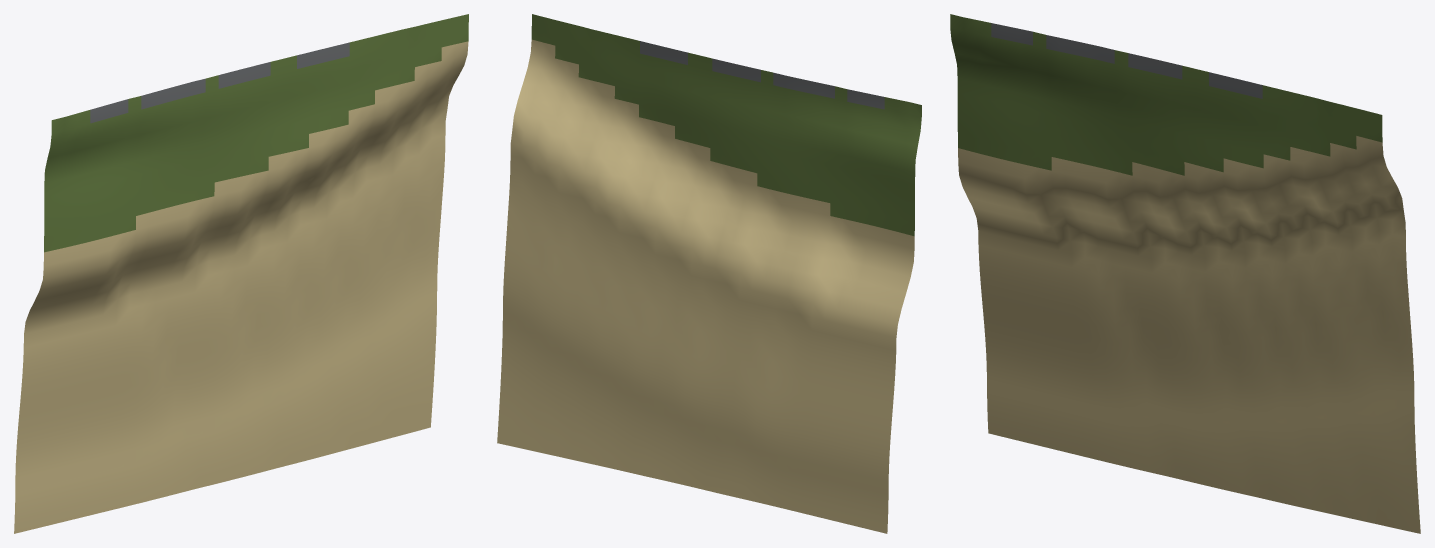
The model's file is island_terrain_04_02.obj.
3 renders of one model, left to right at view 1: azimuth 30°, elevation 25°; view 2: azimuth 150°, elevation 25°; view 3: azimuth 330°, elevation 25°, orthographic. The views are drawn at different scales.
Parts seen in each view (by area): view 1: island_terrain_04_02; view 2: island_terrain_04_02; view 3: island_terrain_04_02.
Part boxes in pixels (<box>): island_terrain_04_02: <box>14,14,468,533</box>; island_terrain_04_02: <box>497,14,921,533</box>; island_terrain_04_02: <box>950,14,1420,533</box>.
Size of the model in its own units: 256 by 256 by 44.81.
